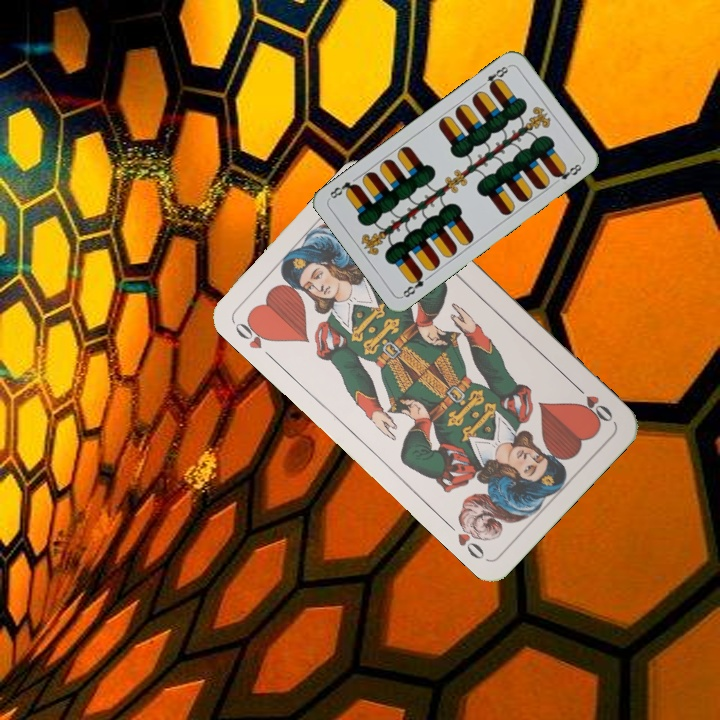E8: (477, 61, 513, 91), (398, 268, 427, 300)
HO: (229, 313, 277, 363), (569, 380, 616, 426)
